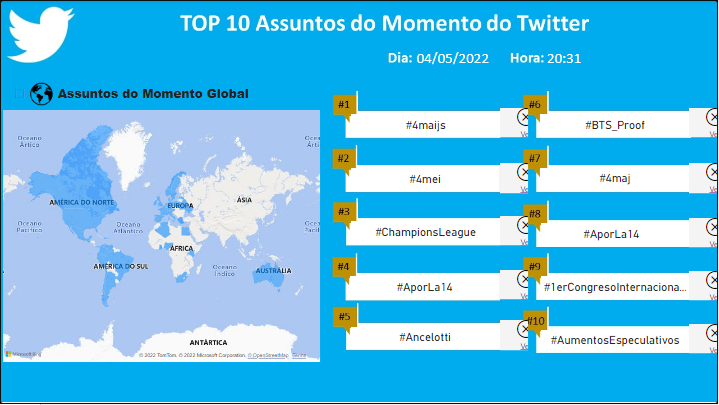

This screenshot's page, from the dashboard's own definition file:
{"tool":"powerbi","page":{"name":"Página 1","canvas":[1280,720],"ordinal":0},"visuals":[{"type":"filledMap","fields":{"Category":["trends.País"]},"box":[0,190.7,575.6,459.8],"z":0},{"type":"card","fields":{"Values":["Min(trends.name)"]},"box":[625.5,203.2,265.5,39.2],"z":1000},{"type":"card","fields":{"Values":["Min(trends.name)"]},"box":[625.5,299.4,263.8,39.2],"z":2000},{"type":"card","fields":{"Values":["Min(trends.name)"]},"box":[623.8,491.9,265.5,39.2],"z":3000},{"type":"card","fields":{"Values":["Min(trends.name)"]},"box":[625.5,393.9,265.5,39.2],"z":4000},{"type":"card","fields":{"Values":["Min(trends.name)"]},"box":[625.5,582.8,263.8,37.4],"z":5000},{"type":"card","fields":{"Values":["Min(trends.name)"]},"box":[962.4,203.2,267.3,39.2],"z":6000},{"type":"card","fields":{"Values":["Min(trends.name)"]},"box":[962.4,299.4,267.3,37.4],"z":7000},{"type":"card","fields":{"Values":["Min(trends.name)"]},"box":[964.2,491.9,263.8,39.2],"z":8000},{"type":"card","fields":{"Values":["Min(trends.name)"]},"box":[964.2,397.4,251.3,39.2],"z":9000},{"type":"card","fields":{"Values":["Min(trends.name)"]},"box":[964.2,588.1,263.8,37.4],"z":10000},{"type":"slicer","fields":{"Values":["trends.País"]},"box":[13.9,146.1,41.7,40],"z":11000},{"type":"textbox","box":[98,146.1,388.5,46.3],"z":12000},{"type":"image","box":[43.4,142.6,60.9,50.4],"z":13000},{"type":"actionButton","box":[890.4,193,50.4,52.2],"z":14000},{"type":"actionButton","box":[890.4,290.4,50.4,53.9],"z":15000},{"type":"actionButton","box":[890.4,384.3,50.4,52.2],"z":16000},{"type":"actionButton","box":[890.4,481.7,50.4,52.2],"z":17000},{"type":"actionButton","box":[890.4,570.4,50.4,53.9],"z":18000},{"type":"actionButton","box":[1227.8,193,50.4,52.2],"z":19000},{"type":"actionButton","box":[1227.8,290.4,50.4,53.9],"z":20000},{"type":"actionButton","box":[1227.8,387.8,50.4,52.2],"z":21000},{"type":"actionButton","box":[1227.8,483.5,50.4,52.2],"z":22000},{"type":"actionButton","box":[1227.8,577.4,50.4,52.2],"z":23000},{"type":"card","fields":{"Values":["Min(trends.data.1)"]},"box":[723.6,87.3,165.7,32.1],"z":23001},{"type":"card","fields":{"Values":["Min(trends.data.2)"]},"box":[964.2,87.3,82,32.1],"z":23002}]}

Visuals, with their boxes in screenshot pixels (x1, y1, x2, y2), scaled from the page's 1280x720 canvas onto the 719x405 screenshot:
filledMap - trends.País: 0/107/323/366
card - Min(trends.name): 351/114/500/136
card - Min(trends.name): 351/168/500/190
card - Min(trends.name): 350/277/500/299
card - Min(trends.name): 351/222/500/244
card - Min(trends.name): 351/328/500/349
card - Min(trends.name): 541/114/691/136
card - Min(trends.name): 541/168/691/189
card - Min(trends.name): 542/277/690/299
card - Min(trends.name): 542/224/683/246
card - Min(trends.name): 542/331/690/352
slicer - trends.País: 8/82/31/105
textbox: 55/82/273/108
image: 24/80/59/109
actionButton: 500/109/528/138
actionButton: 500/163/528/194
actionButton: 500/216/528/246
actionButton: 500/271/528/300
actionButton: 500/321/528/351
actionButton: 690/109/718/138
actionButton: 690/163/718/194
actionButton: 690/218/718/248
actionButton: 690/272/718/301
actionButton: 690/325/718/354
card - Min(trends.data.1): 406/49/500/67
card - Min(trends.data.2): 542/49/588/67
